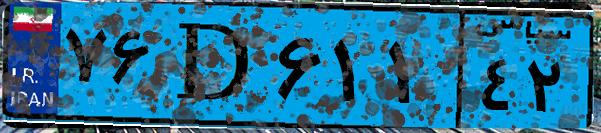1: (385, 28, 445, 110), (330, 28, 385, 110)
2: (525, 38, 570, 115)
4: (475, 38, 525, 113)
6: (270, 28, 330, 110), (110, 28, 158, 98)
7: (57, 26, 110, 100)
D: (158, 12, 270, 120)
